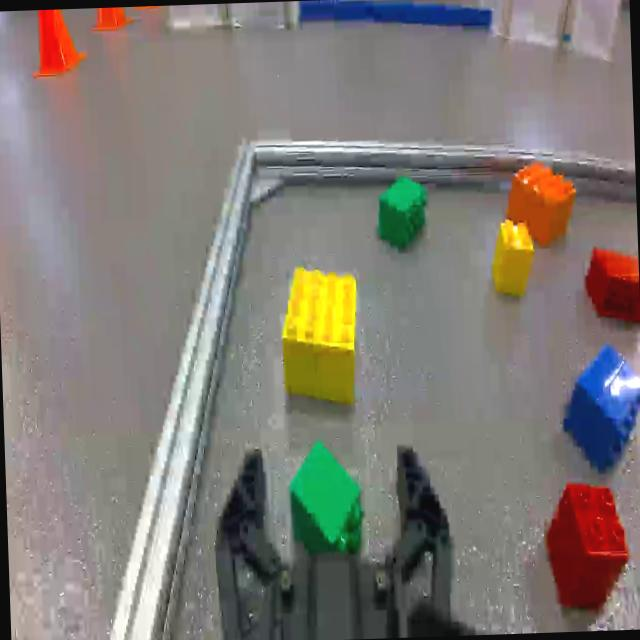block: (277, 264, 362, 406), (496, 218, 534, 302)
blue: (560, 344, 640, 471)
cone: (28, 8, 86, 74), (92, 6, 134, 32)
green: (287, 440, 363, 561), (376, 176, 428, 248)
metal barrier: (92, 124, 640, 640)
orange: (508, 156, 576, 245)
red goal: (542, 481, 627, 614), (582, 247, 640, 318)
river: (302, 0, 489, 31)
storage cube: (491, 0, 568, 55), (560, 0, 621, 61), (229, 1, 301, 32), (170, 3, 228, 30)
